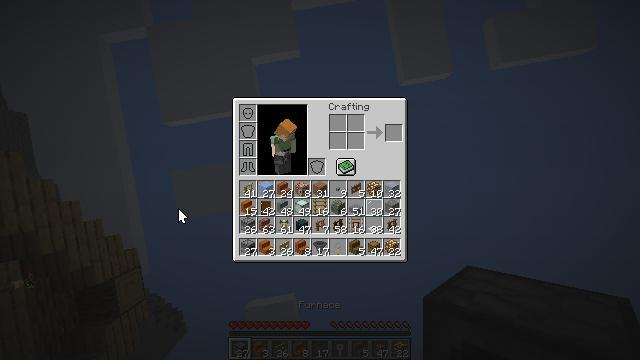cursor: (178, 208, 188, 224)
